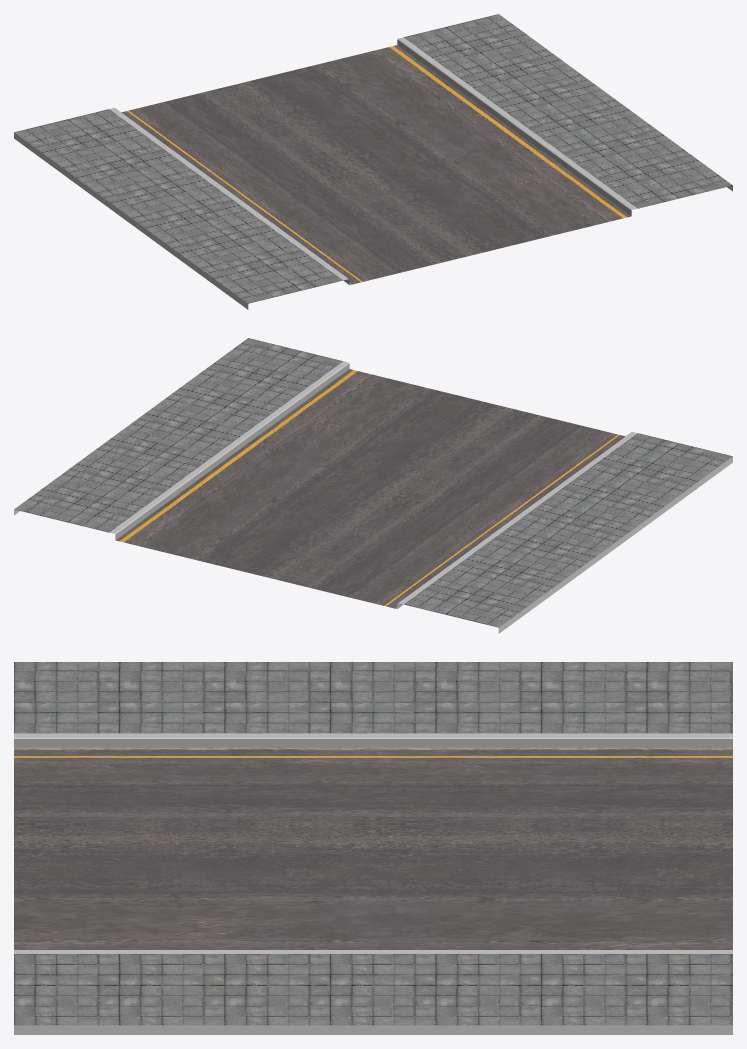
The model's file is road.fbx.
3 renders of one model, top to bottom at view 1: azimuth 30°, elevation 25°; view 2: azimuth 150°, elevation 25°; view 3: azimuth 270°, elevation 25°, orthographic. The views are drawn at different scales.
Parts seen in each view (by area): view 1: Plane.053; view 2: Plane.053; view 3: Plane.053.
Boxes of the visible parts, <box> form: Plane.053: <box>14,14,732,309</box>; Plane.053: <box>14,338,732,633</box>; Plane.053: <box>14,662,732,1034</box>.
Size of the model in its own units: 2869 by 35.24 by 2400.
